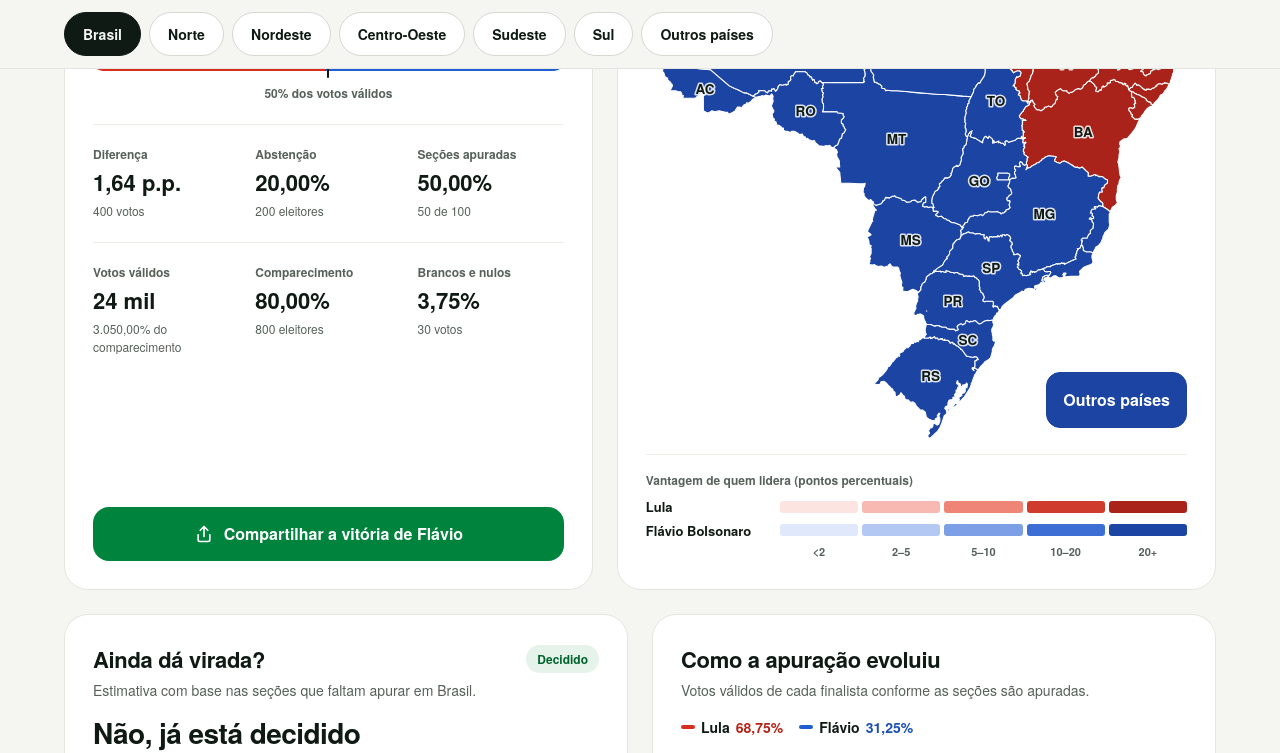
App abroad votes › selects abroad from its button on the map
(page scrolled)
Click the button with aria-label "Outros países: Flávio" at (1117, 400), box [1046,372,1187,428]
(page scrolled)
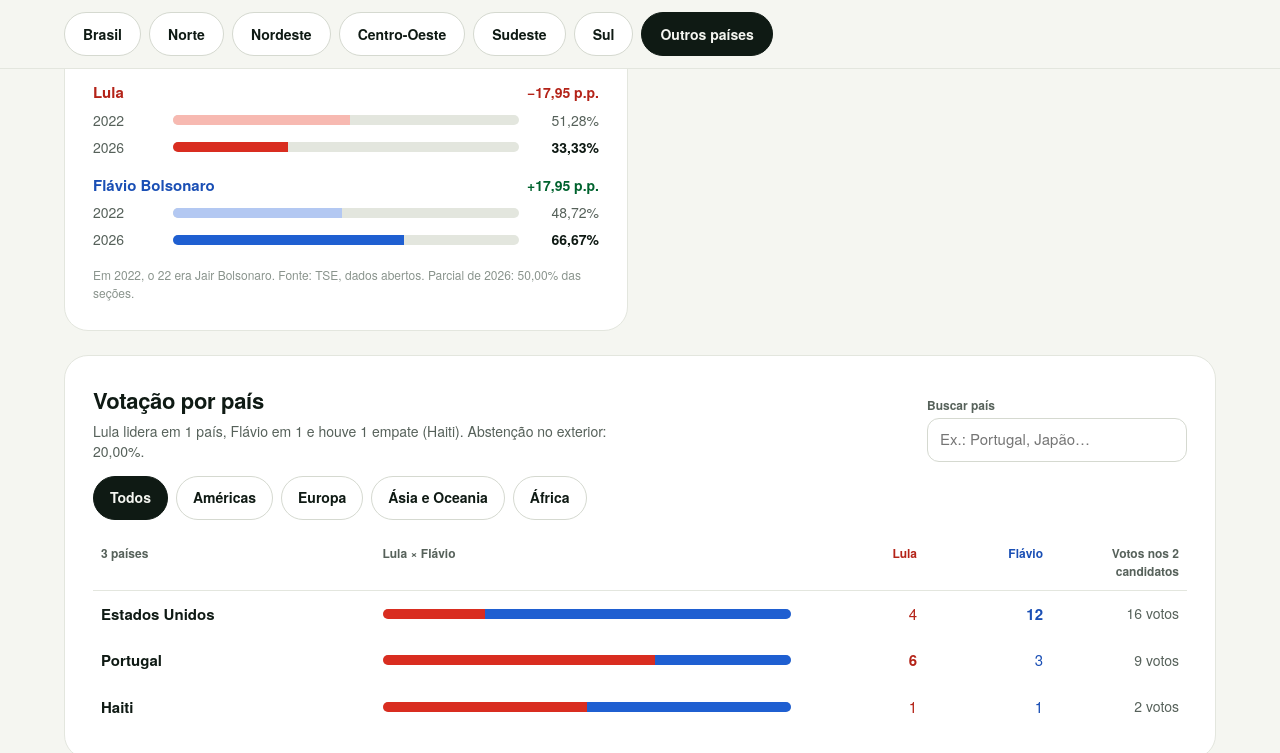
Expected: the heading "Votação por país" is shown, [93,384,264,416]
